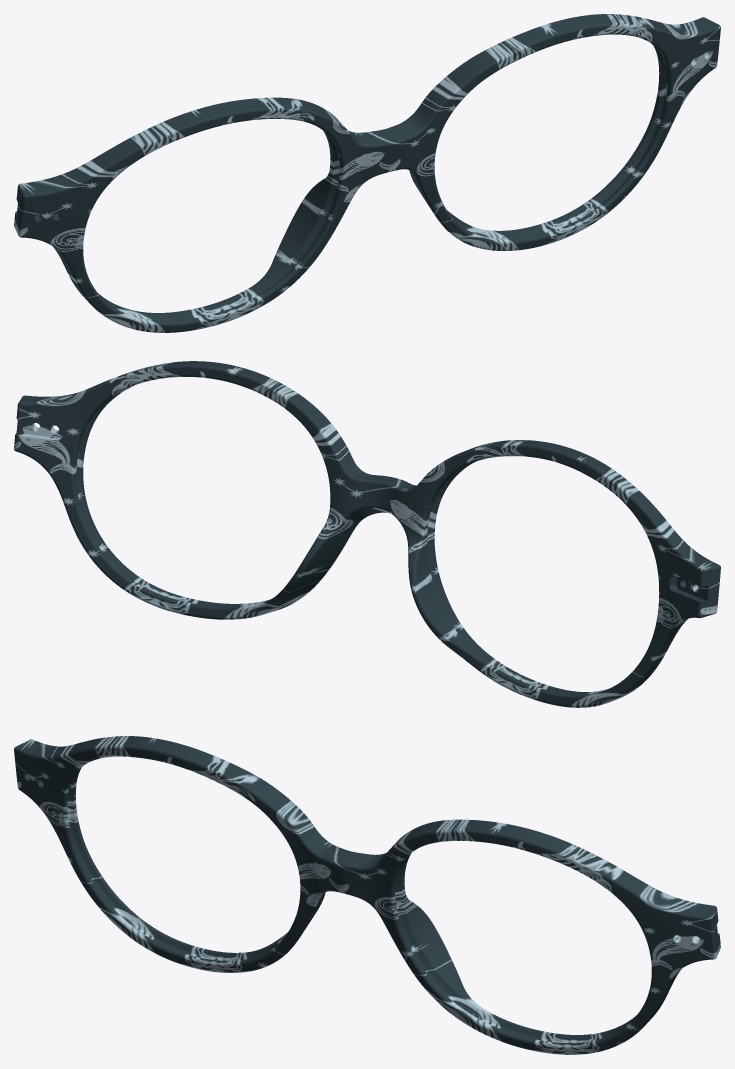
File: Frame (1).glb
3 renders of one model, top to bottom at view 1: azimuth 30°, elevation 25°; view 2: azimuth 150°, elevation 25°; view 3: azimuth 330°, elevation 25°, orthographic.
Parts seen in each view (by area): view 1: FRONTALE; view 2: FRONTALE; view 3: FRONTALE.
Boxes of the visible parts, <box> form: FRONTALE: <box>14,14,720,332</box>; FRONTALE: <box>14,361,720,707</box>; FRONTALE: <box>14,736,720,1054</box>.
Bounding box in the file's own units: 1.26 × 0.4039 × 0.1303.
Materials: 1 (1 with a texture image).
